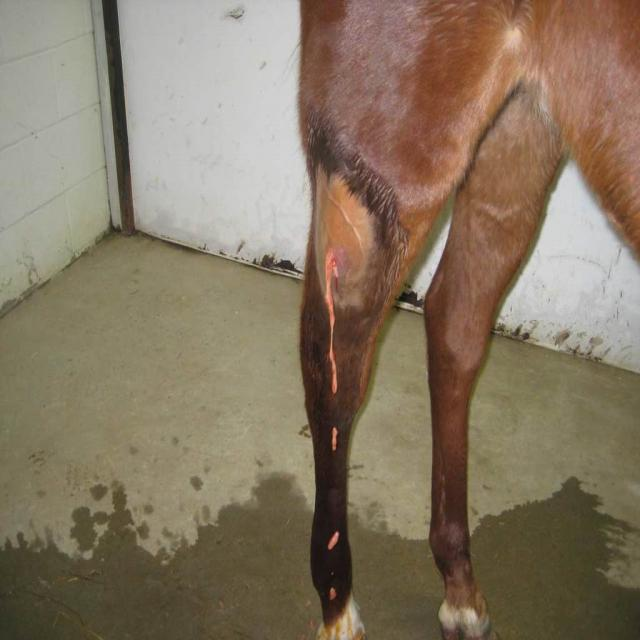Horse: (279, 0, 639, 639)
